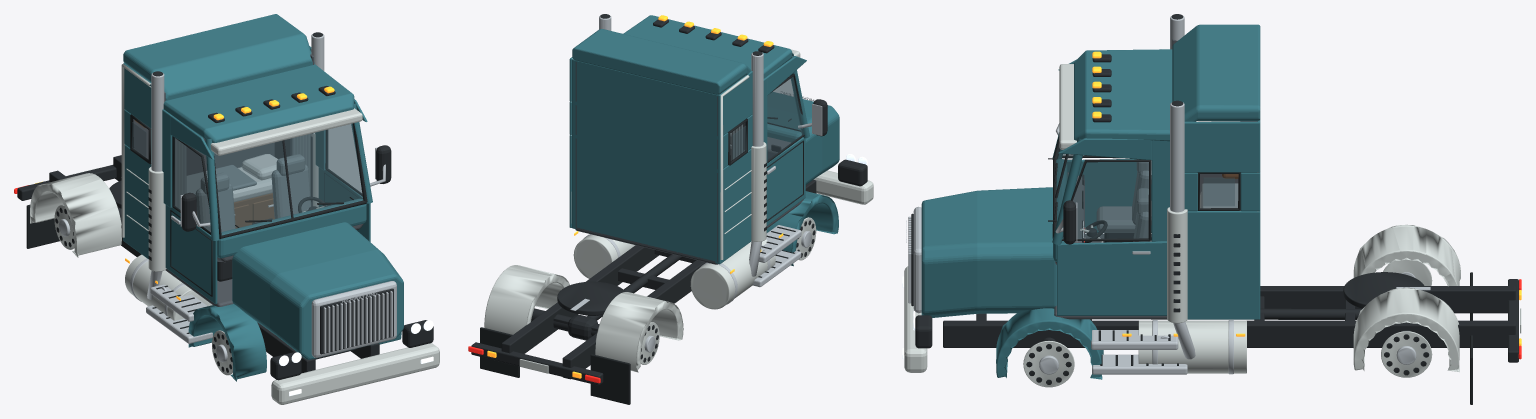
File: HighwayKing.fbx
3 renders of one model, left to right at view 1: azimuth 30°, elevation 25°; view 2: azimuth 150°, elevation 25°; view 3: azimuth 270°, elevation 25°, orthographic. The views are drawn at different scales.
Visible parts, largest first — view 1: CabExterior__TT_Paint_Primary, Chassis__TT_Paint_Primary, CabExterior__TT_Glass, Chassis__TT_MetalTrim, Chassis__TT_Chrome, Chassis__TT_Chassis, CabInterior__TT_Fabric, CabExterior__TT_MetalTrim, CabExterior__TT_Rubber, CabInterior__TT_Interior, CabExterior__TT_Chrome, CabExterior__TT_Chassis (+6 smaller); view 2: CabExterior__TT_Paint_Primary, Chassis__TT_MetalTrim, Chassis__TT_Chassis, Chassis__TT_Paint_Primary, Chassis__TT_Rubber, CabExterior__TT_Glass, Chassis__TT_Chrome, CabExterior__TT_Chrome, CabInterior__TT_Interior, CabExterior__TT_Rubber, CabExterior__TT_MetalTrim, CabExterior__TT_Chassis (+3 smaller); view 3: CabExterior__TT_Paint_Primary, Chassis__TT_Paint_Primary, Chassis__TT_Chassis, Chassis__TT_MetalTrim, CabExterior__TT_Glass, Chassis__TT_Chrome, CabInterior__TT_Fabric, CabExterior__TT_Chrome, CabExterior__TT_Rubber, CabInterior__TT_Interior, Wheel_FL__TT_MetalTrim, Wheel_RL__TT_MetalTrim (+3 smaller).
Boxes of the visible parts, box(x1,y1,x2,y2) form: CabExterior__TT_Paint_Primary: box(123, 14, 372, 304); Chassis__TT_Paint_Primary: box(188, 222, 403, 381); CabExterior__TT_Glass: box(132, 122, 362, 235); Chassis__TT_MetalTrim: box(30, 133, 439, 404); Chassis__TT_Chrome: box(121, 34, 396, 357); Chassis__TT_Chassis: box(17, 32, 433, 380); CabInterior__TT_Fabric: box(175, 134, 311, 231); CabExterior__TT_MetalTrim: box(121, 64, 362, 237); CabExterior__TT_Rubber: box(130, 114, 367, 333); CabInterior__TT_Interior: box(133, 54, 363, 306); CabExterior__TT_Chrome: box(146, 164, 385, 343); CabExterior__TT_Chassis: box(181, 86, 391, 231); CabExterior__TT_Paint_Primary: box(569, 15, 809, 264); Chassis__TT_MetalTrim: box(484, 142, 873, 373); Chassis__TT_Chassis: box(471, 14, 867, 385); Chassis__TT_Paint_Primary: box(766, 92, 839, 266); Chassis__TT_Rubber: box(480, 119, 791, 404); CabExterior__TT_Glass: box(732, 77, 803, 160); Chassis__TT_Chrome: box(570, 15, 814, 310); CabExterior__TT_Chrome: box(752, 123, 811, 287); CabInterior__TT_Interior: box(575, 62, 803, 264); CabExterior__TT_Rubber: box(728, 73, 804, 277); CabExterior__TT_MetalTrim: box(571, 49, 800, 259); CabExterior__TT_Chassis: box(653, 19, 827, 136); CabExterior__TT_Paint_Primary: box(1052, 24, 1260, 319); Chassis__TT_Paint_Primary: box(921, 187, 1103, 379); Chassis__TT_Chassis: box(911, 14, 1518, 362); Chassis__TT_MetalTrim: box(904, 207, 1521, 373); CabExterior__TT_Glass: box(1056, 147, 1234, 238); Chassis__TT_Chrome: box(906, 16, 1430, 374); CabInterior__TT_Fabric: box(1096, 159, 1238, 241); CabExterior__TT_Chrome: box(1055, 123, 1187, 374); CabExterior__TT_Rubber: box(1052, 136, 1240, 365); CabInterior__TT_Interior: box(1054, 39, 1257, 319); Wheel_FL__TT_MetalTrim: box(1023, 341, 1074, 387); Wheel_RL__TT_MetalTrim: box(1381, 331, 1432, 377).
Size of the model in its own units: 312 by 391 by 725.
